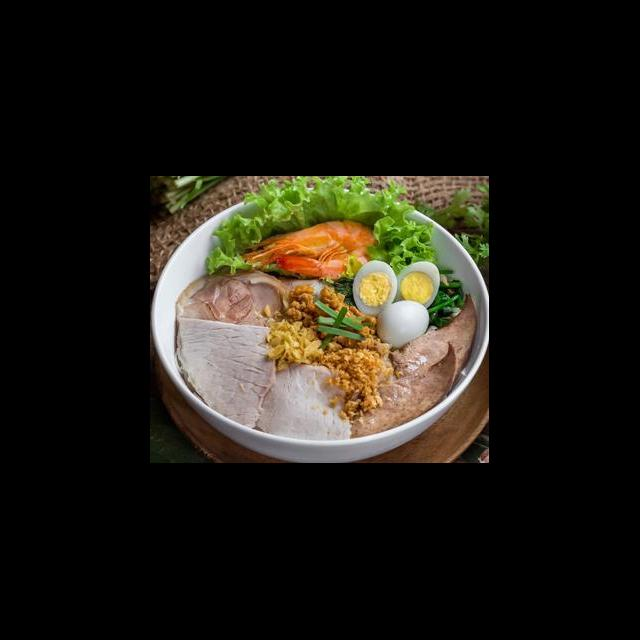gan: (342, 336, 462, 444), (384, 290, 484, 390)
thit heo: (172, 314, 280, 438), (240, 356, 356, 448), (172, 266, 290, 346)
tom: (230, 216, 388, 284)
trung: (386, 260, 444, 318), (372, 298, 433, 352), (350, 258, 400, 320)
